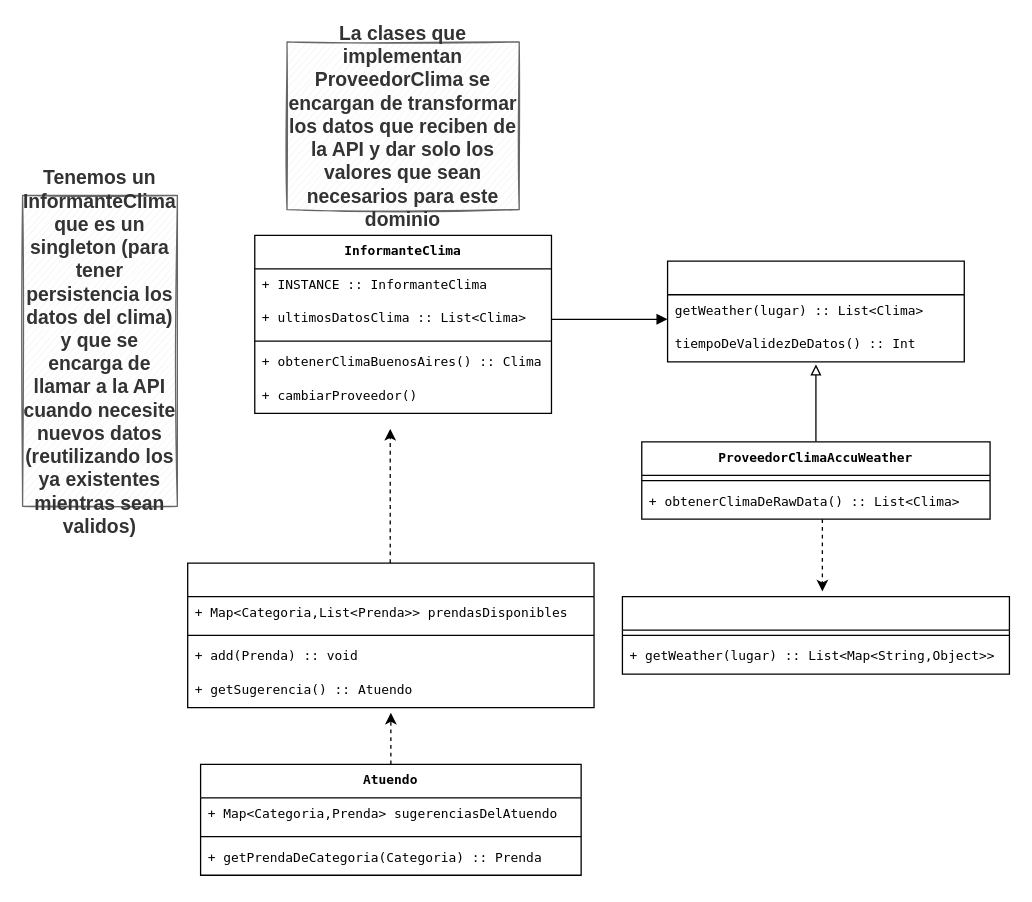
Image size: 1032x902. Some labels were removed from this diagram. The box of each missing label's shape, as (x1, y1, x2, y2) in pixels:
AccuWeatherAPI: (621, 595, 1009, 674)
Guardaropa: (186, 562, 594, 708)
ProveedorClima: (666, 260, 964, 362)
